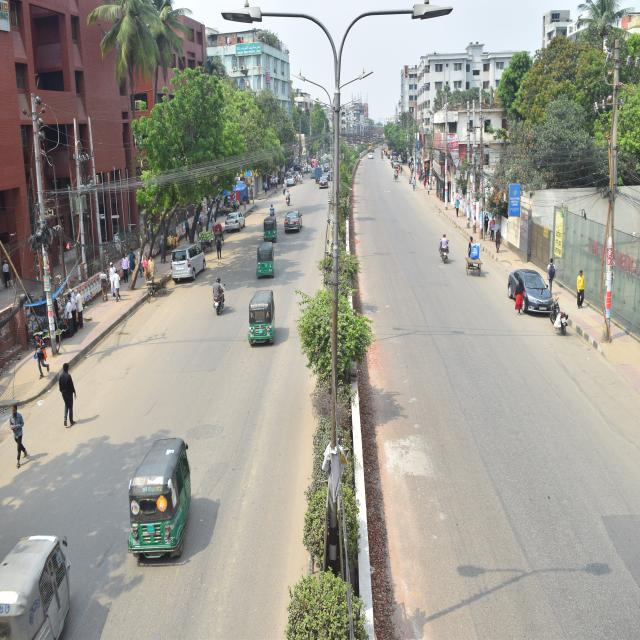car: (507, 264, 549, 312), (224, 209, 244, 232), (285, 210, 303, 235), (284, 174, 297, 188), (317, 173, 329, 188)
microbus: (168, 239, 208, 283)
motorbike: (542, 288, 572, 335), (206, 271, 227, 314), (439, 236, 454, 261), (285, 190, 291, 206)
